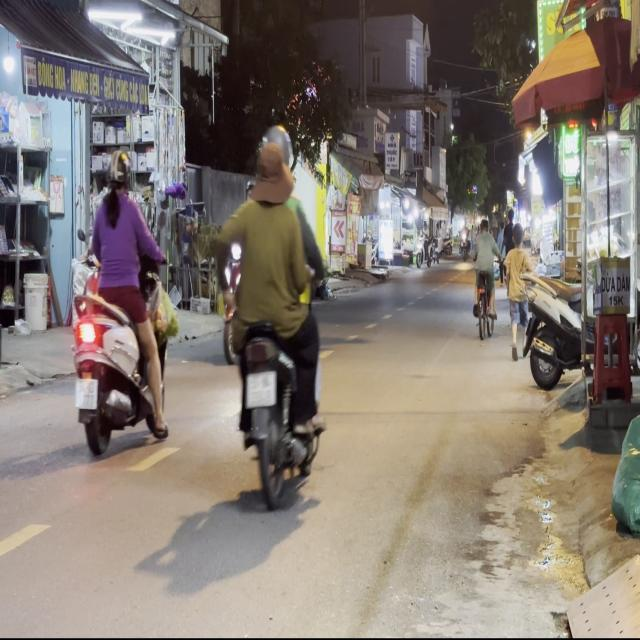helmet: (262, 123, 293, 166), (106, 150, 130, 193)
licenseplate: (220, 121, 327, 507), (69, 146, 177, 459)
motorcyclist: (252, 134, 294, 203)
nohelmet: (246, 370, 275, 406), (75, 378, 97, 407)
